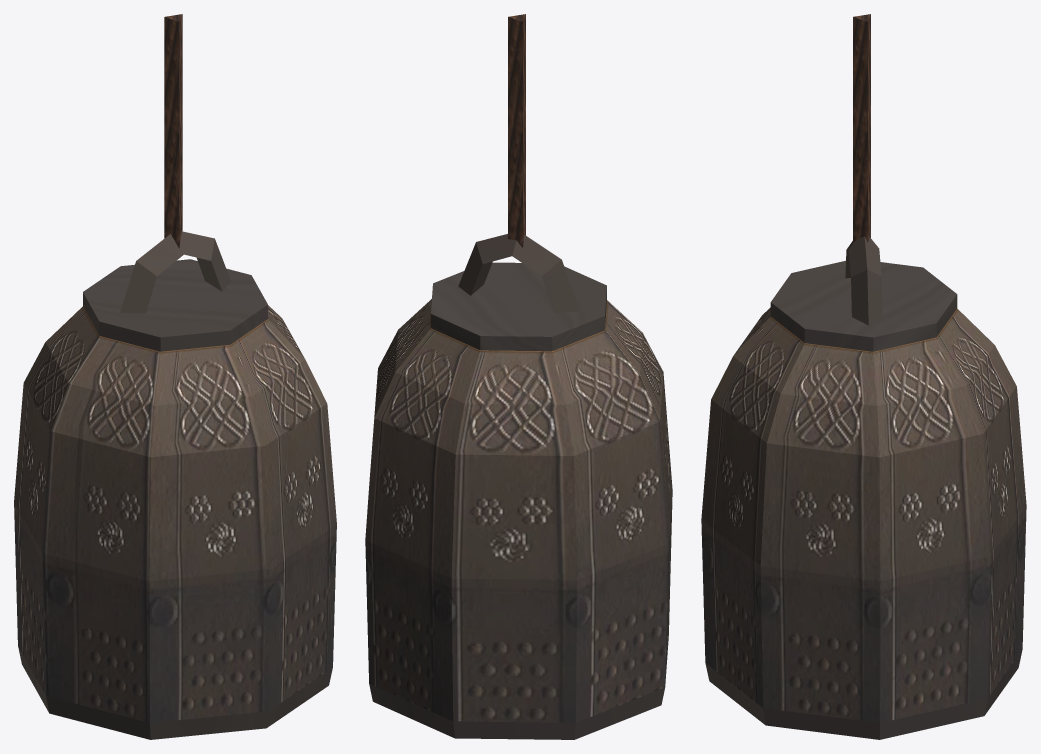
Rendered from bell.glb.
The picture shows the model from 3 angles, left to right: view 1: azimuth 30°, elevation 25°; view 2: azimuth 150°, elevation 25°; view 3: azimuth 270°, elevation 25°; orthographic projection.
Visible parts, largest first — view 1: Bell; view 2: Bell; view 3: Bell.
Boxes of the visible parts, x1,y1,x2,y2 form: Bell: (14, 14, 336, 739); Bell: (365, 14, 672, 739); Bell: (701, 14, 1026, 739).
Size of the model in its own units: 1.05 by 2.34 by 1.05.
2 materials, 2 textured.
